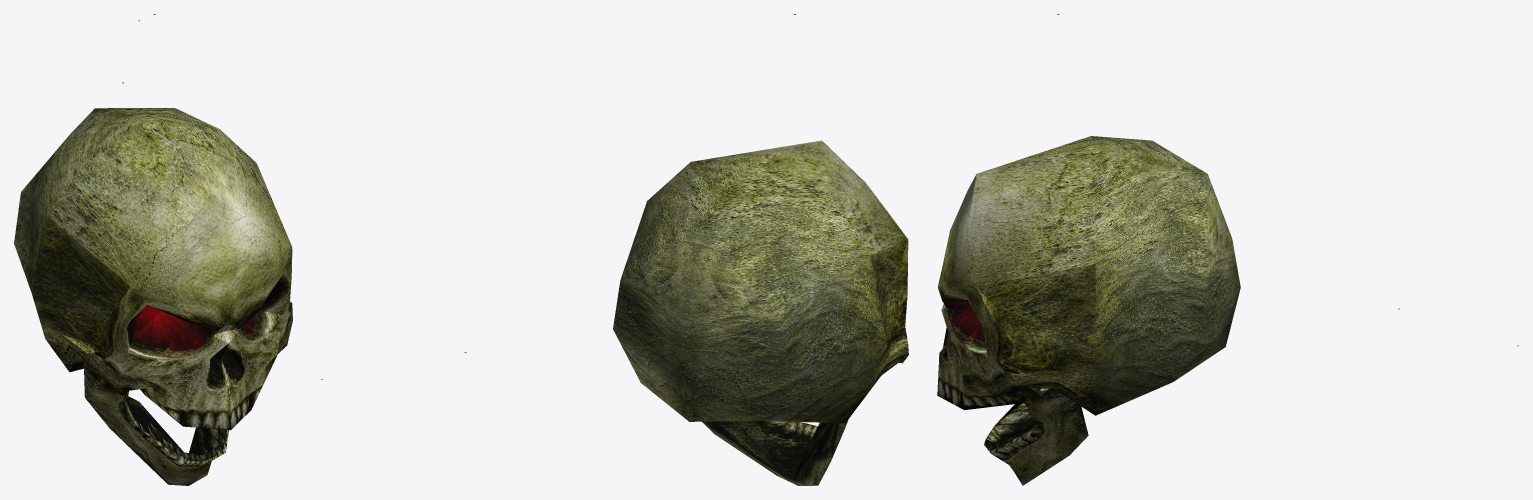
The model's file is mm9_deco_skulls1000a.glb.
3 views of the same model, side by side, from view 1: azimuth 30°, elevation 25°; view 2: azimuth 150°, elevation 25°; view 3: azimuth 270°, elevation 25° (orthographic). The views are drawn at different scales.
Parts seen in each view (by area): view 1: Skulls1000a; view 2: Skulls1000a; view 3: Skulls1000a.
Boxes of the visible parts, box(x1,y1,x2,y2) form: Skulls1000a: box(14, 14, 292, 485); Skulls1000a: box(321, 14, 908, 485); Skulls1000a: box(937, 14, 1518, 485).
Size of the model in its own units: 2.63 by 3.62 by 4.15.
2 materials, 2 textured.
